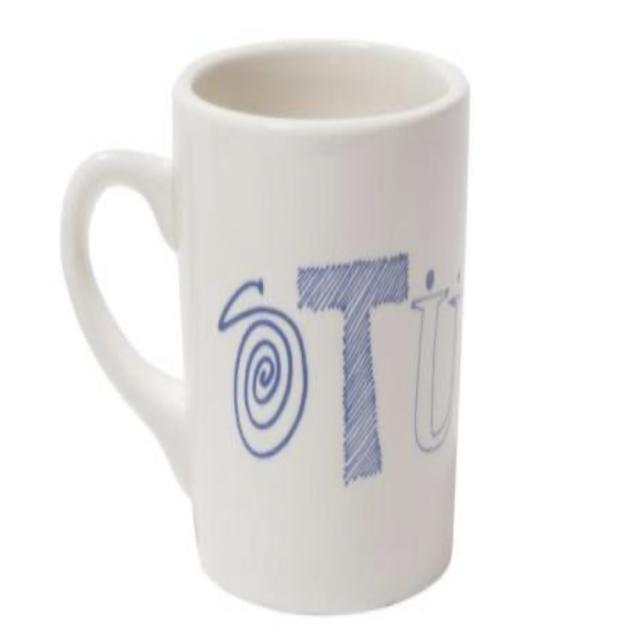recyclable: (56, 16, 510, 624)
